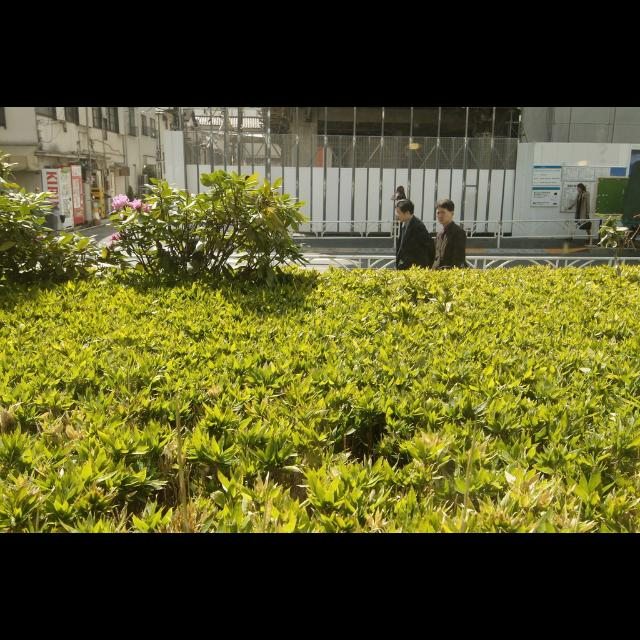Flower: (114, 192, 128, 208), (128, 198, 142, 212), (109, 232, 121, 244)
